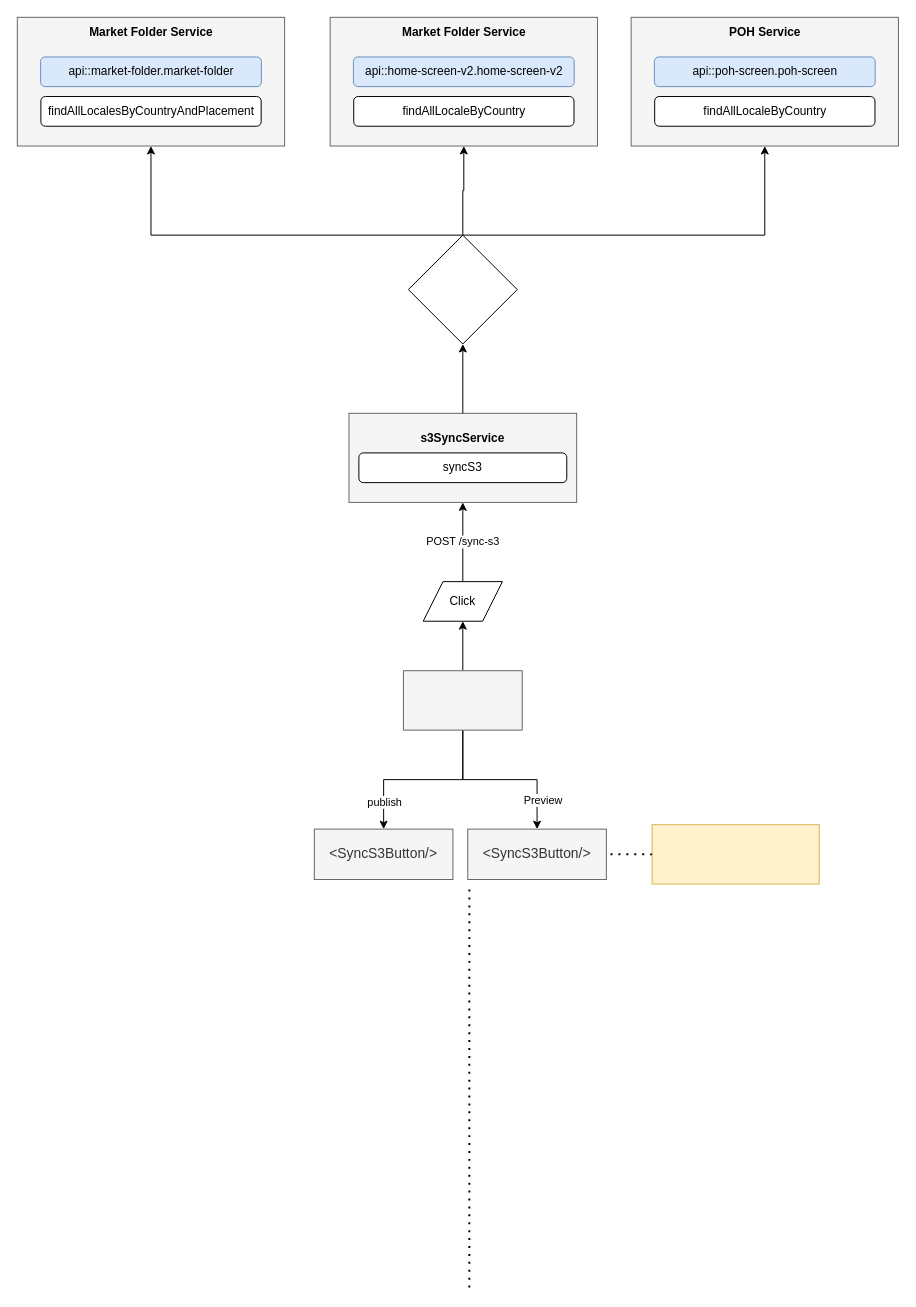
This 916x1307 diagram has some shape labels left out. Here are the shapes that lost their labels. From the top down, the box of each, then its label:
(407, 234, 517, 344): fetchData based on Uid
(402, 670, 522, 730): <SyncButtons/>
(651, 824, 819, 884): Are you sure you want to preview / publish?
